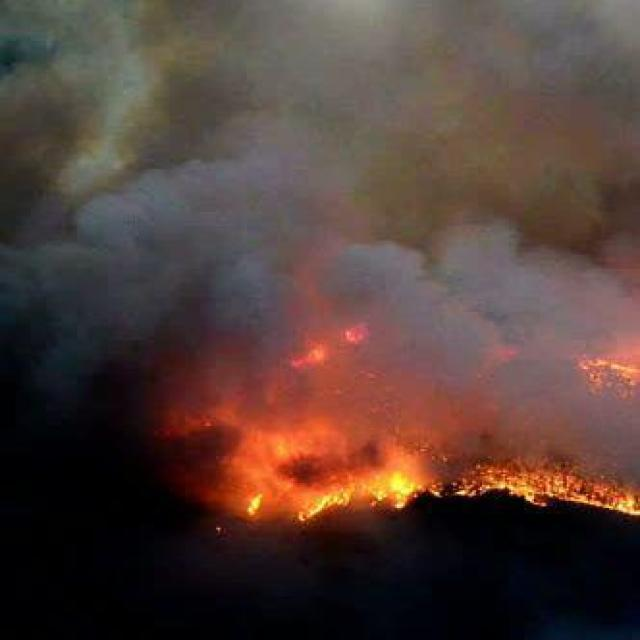Fire: (195, 408, 433, 520), (439, 451, 640, 526), (279, 315, 376, 375), (577, 332, 640, 406)
Smoke: (238, 13, 622, 253), (58, 11, 293, 338), (369, 238, 583, 414)
